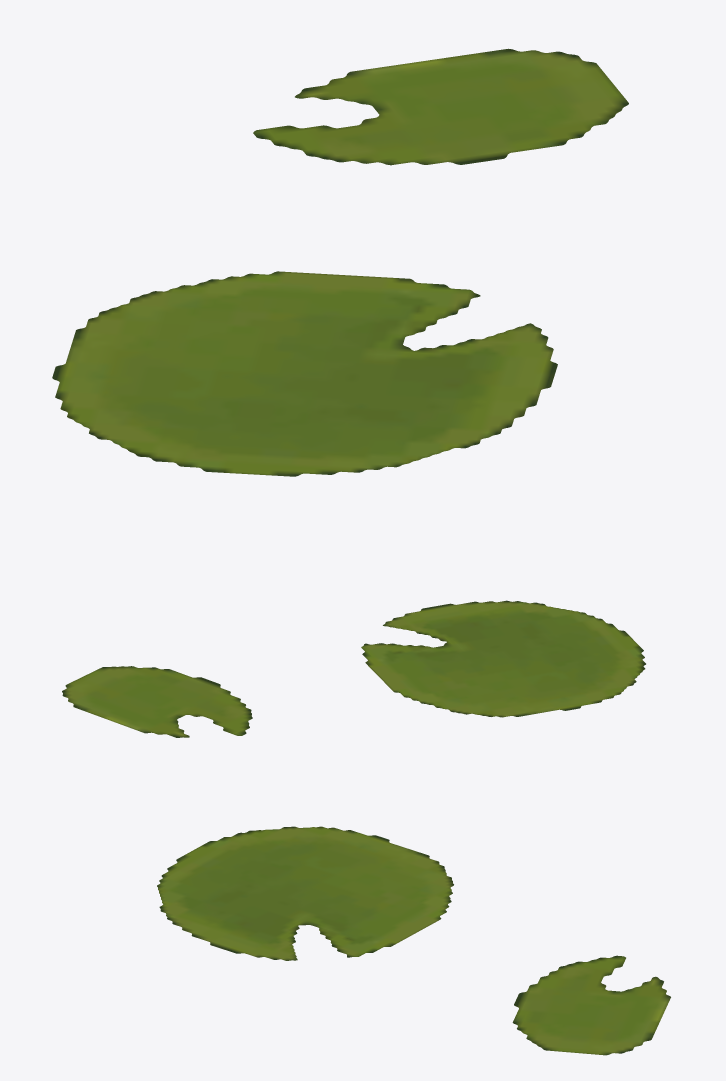
Rendered from lilypad_05.fbx.
3 renders of one model, top to bottom at view 1: azimuth 30°, elevation 25°; view 2: azimuth 150°, elevation 25°; view 3: azimuth 270°, elevation 25°, orthographic. The views are drawn at different scales.
Parts seen in each view (by area): view 1: obj0.108; view 2: obj0.108; view 3: obj0.108.
Part boxes in pixels (x1=…): obj0.108: x1=52, y1=48, x2=628, y2=476; obj0.108: x1=62, y1=600, x2=645, y2=737; obj0.108: x1=157, y1=826, x2=670, y2=1055.
Bounding box in the file's own units: 1 × 1.68e-07 × 1.08.
